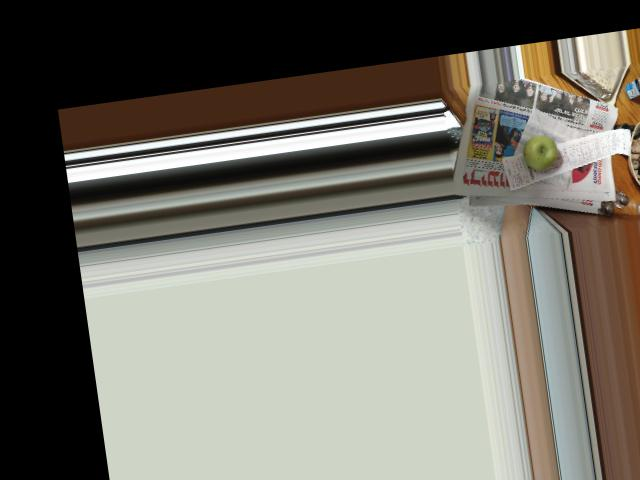apple: (514, 130, 562, 174)
